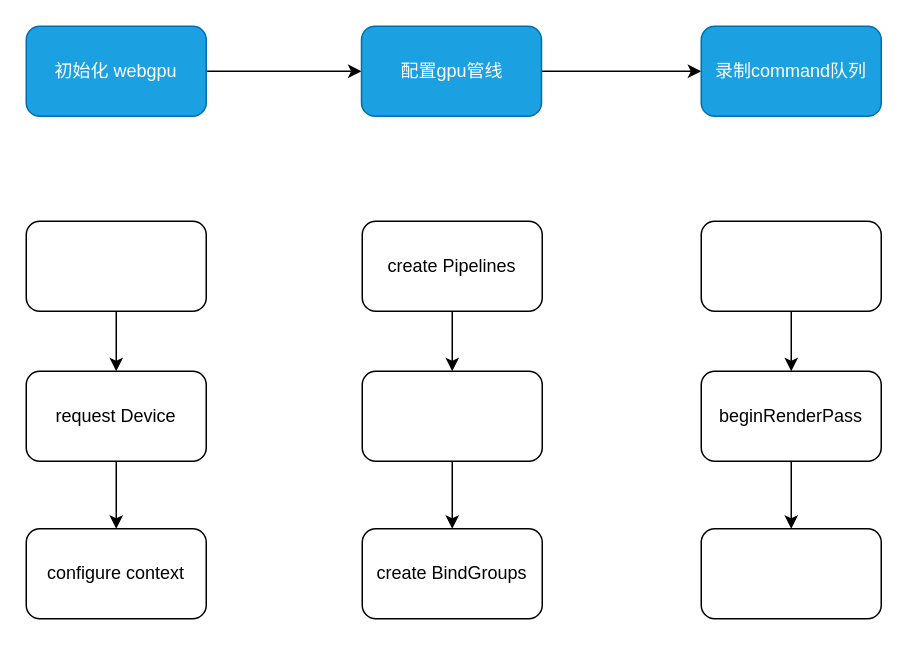
The diagram is 908 pixels wide and 645 high, and some of its shapes have lost their labels. Each missing label, with the box of its shape:
commandEncoder: (700, 220, 881, 311)
create GPUBuffers: (361, 370, 542, 461)
device.queue.submit: (700, 527, 881, 619)
request Adapter: (25, 220, 206, 311)
